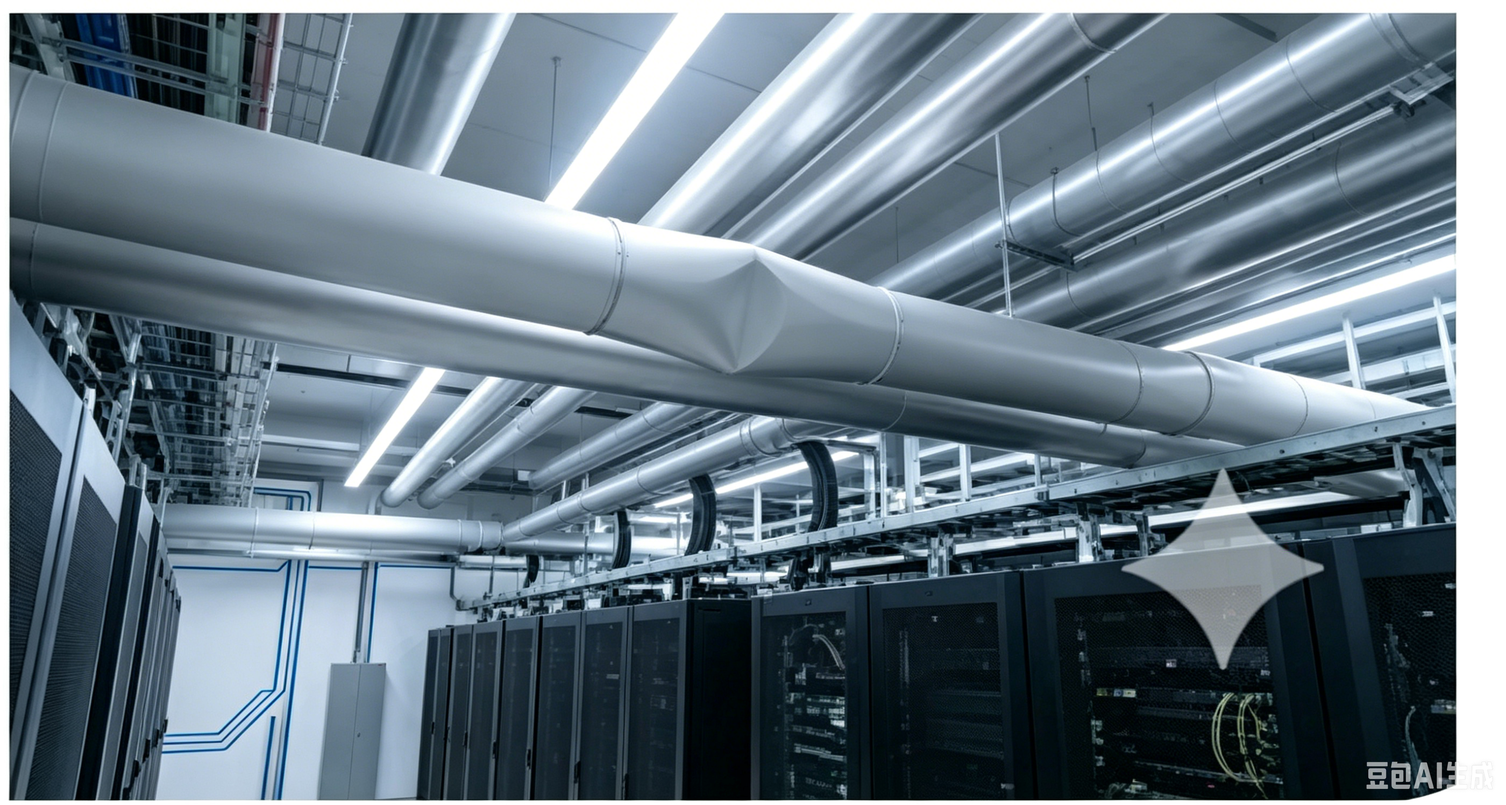Leakage: (687, 241, 804, 384)
